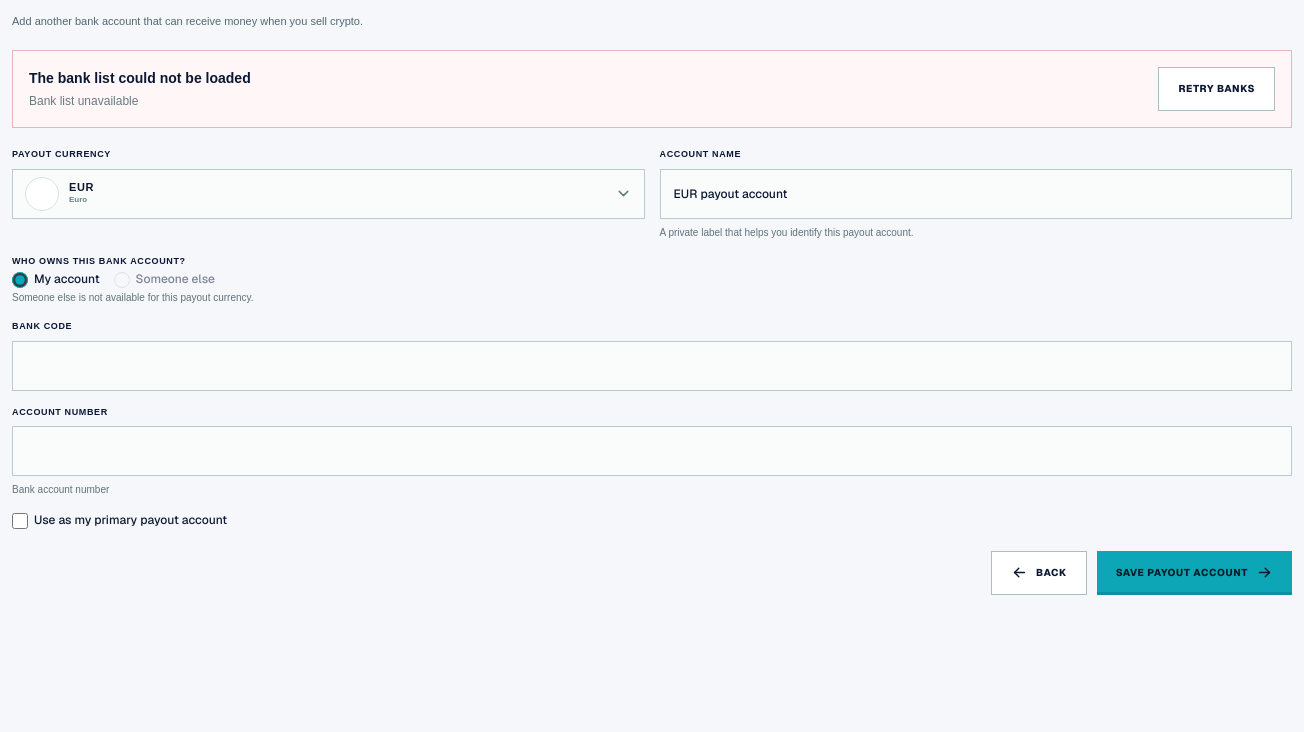
Test: recoverable route loads › retries a failed bank list without losing entered account details
The image size is (1304, 732).
Check: the message shows "Bank list unavailable", box x1=29 y1=94 x2=138 y2=108
Type "Travel account" into the field labelled "Account name" at {"x": 976, "y": 194}, box x1=660 y1=169 x2=1292 y2=219
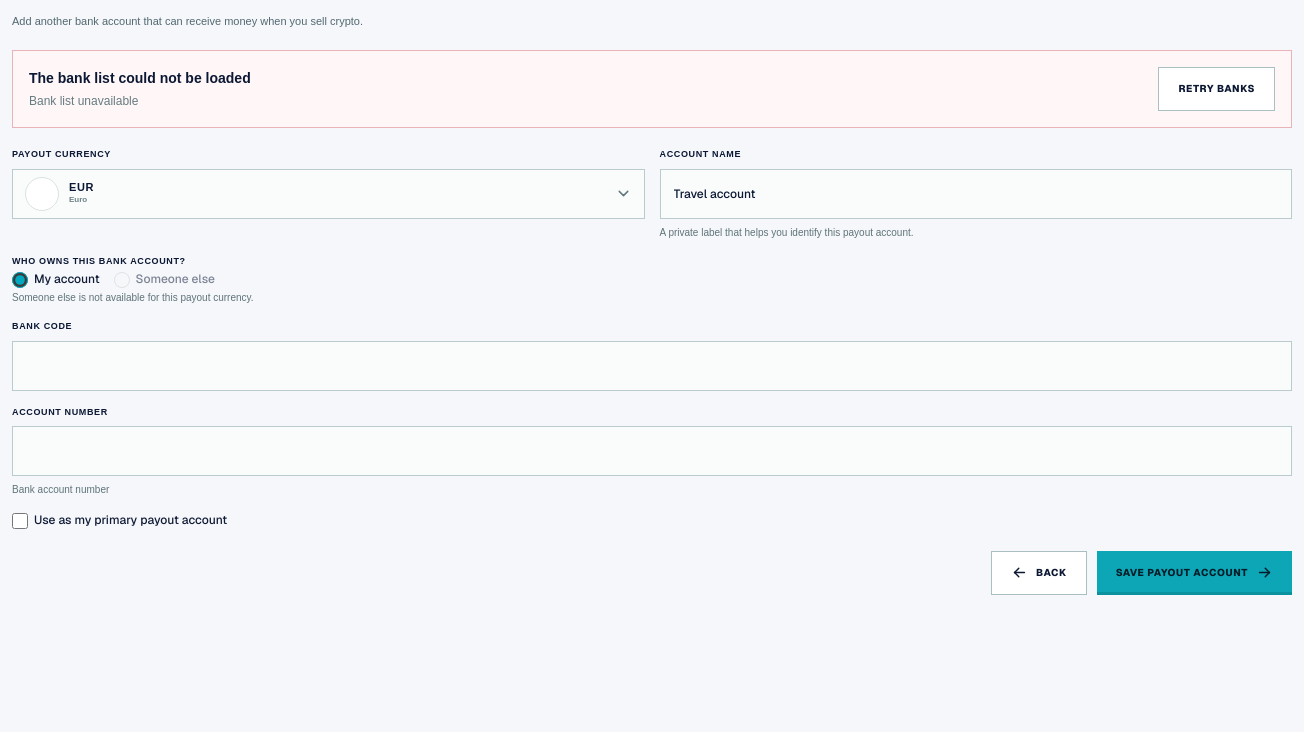
Click the button "Retry banks" at {"x": 1217, "y": 89}, box x1=1158 y1=67 x2=1275 y2=111
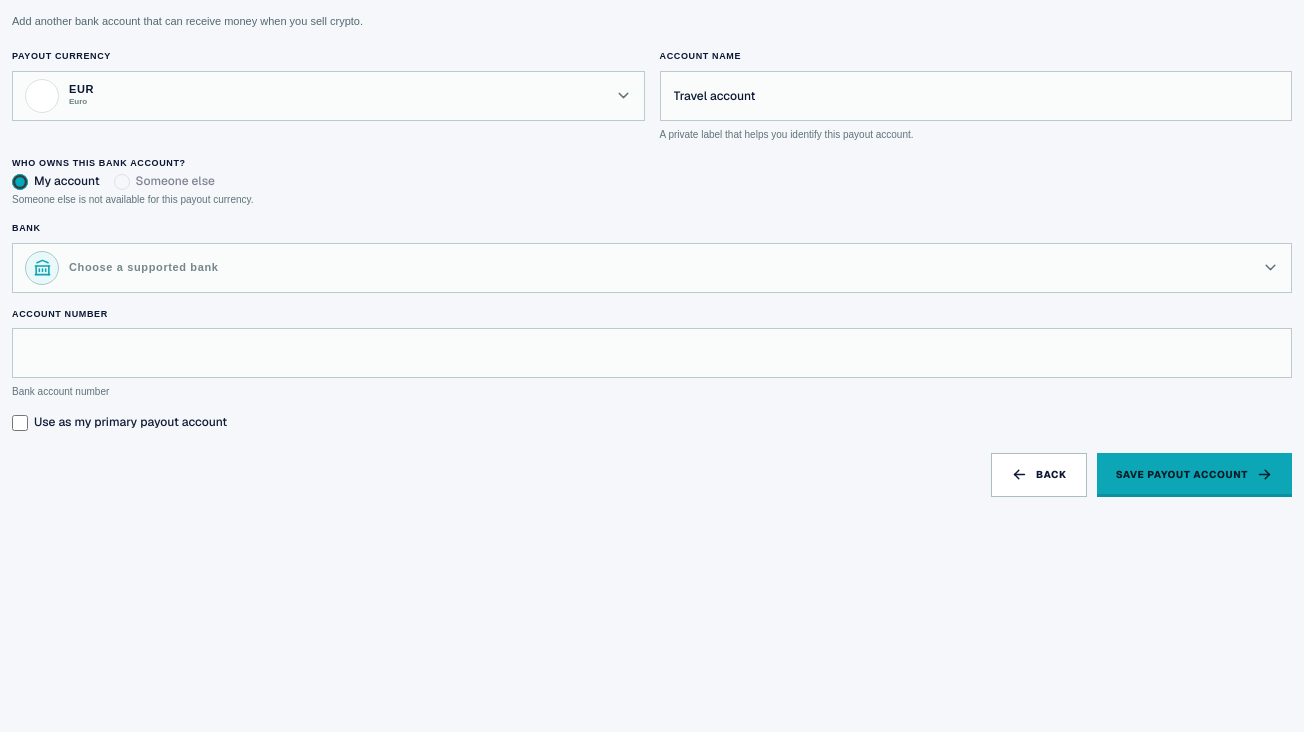
Check: the button "Choose a supported bank" is shown, box x1=12 y1=243 x2=1292 y2=293
Check: the message "The bank list could not be loaded Bank list unavailable Retry banks" is gone
